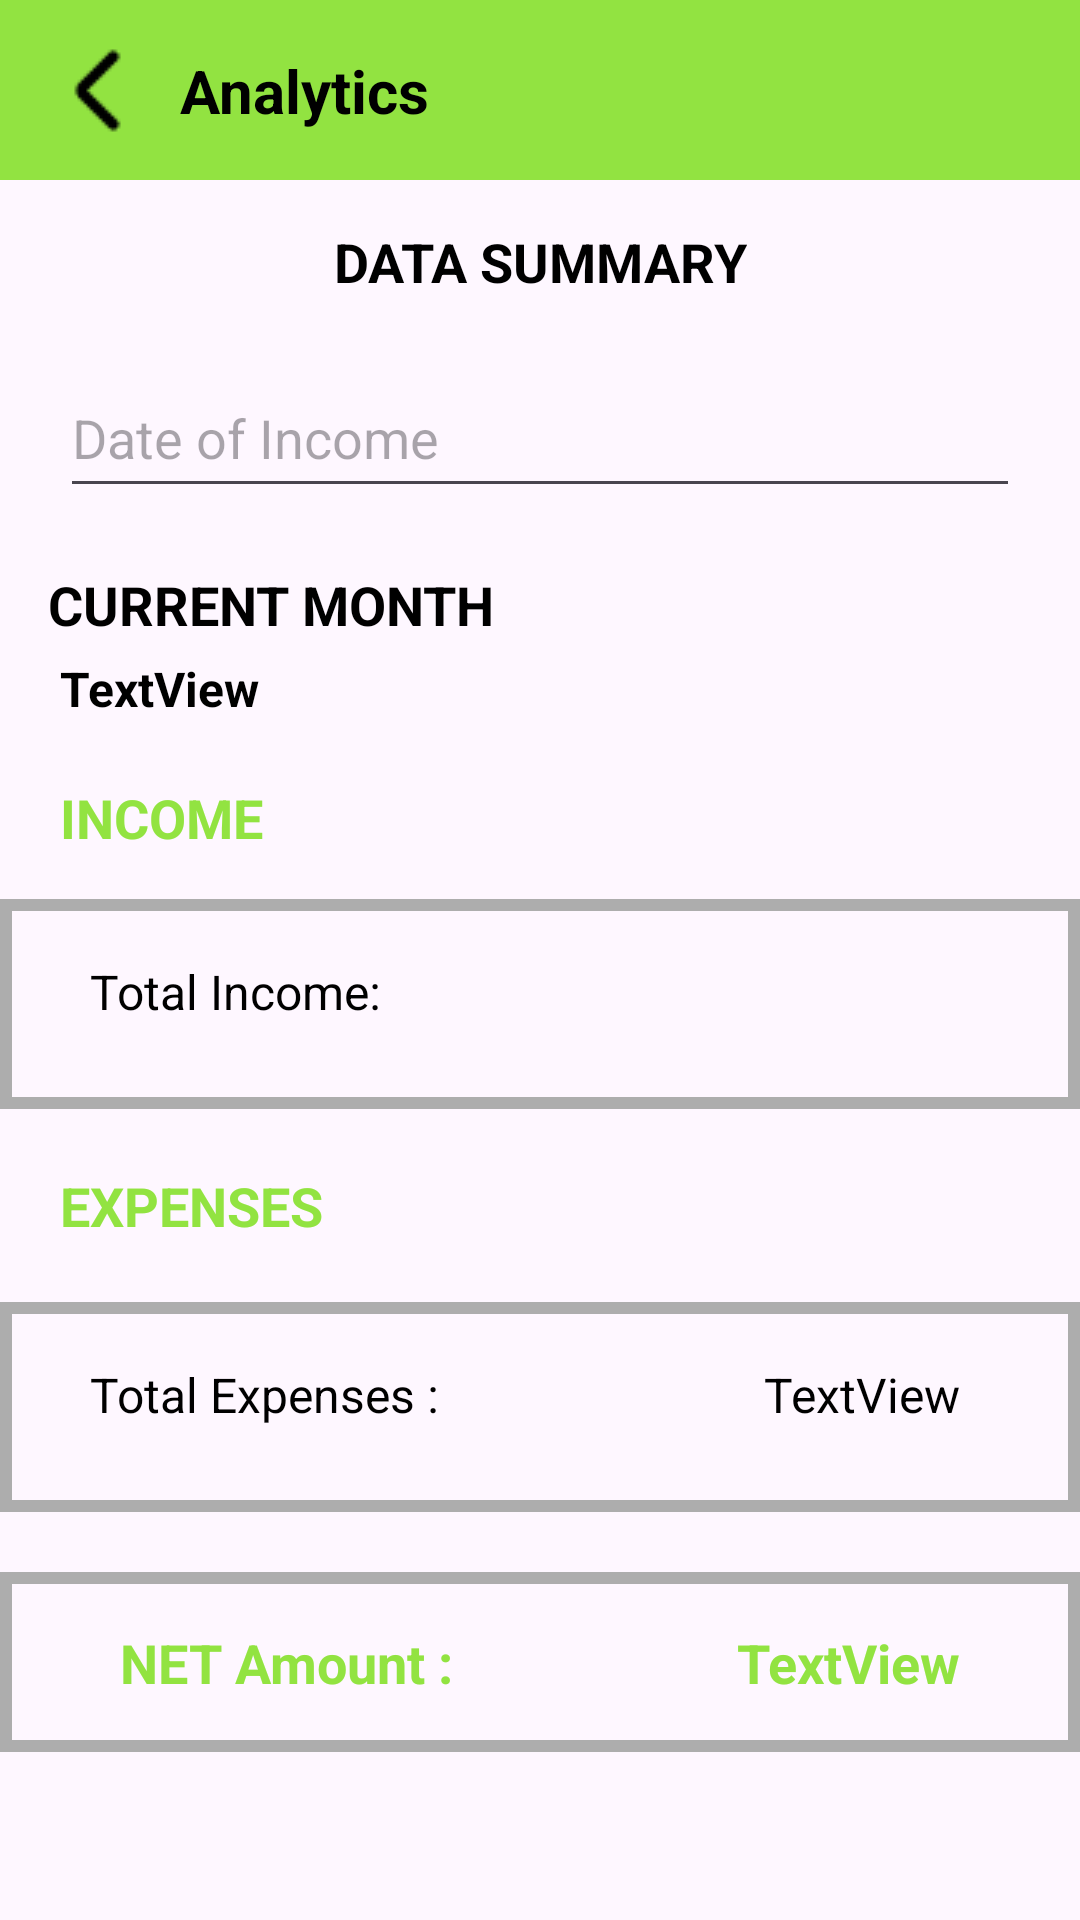

Named icons in this screenshot (1080px x 1920px) and their bounding boxes, (x1, y1, x2, y2):
back arrow: (74, 49, 121, 132)
